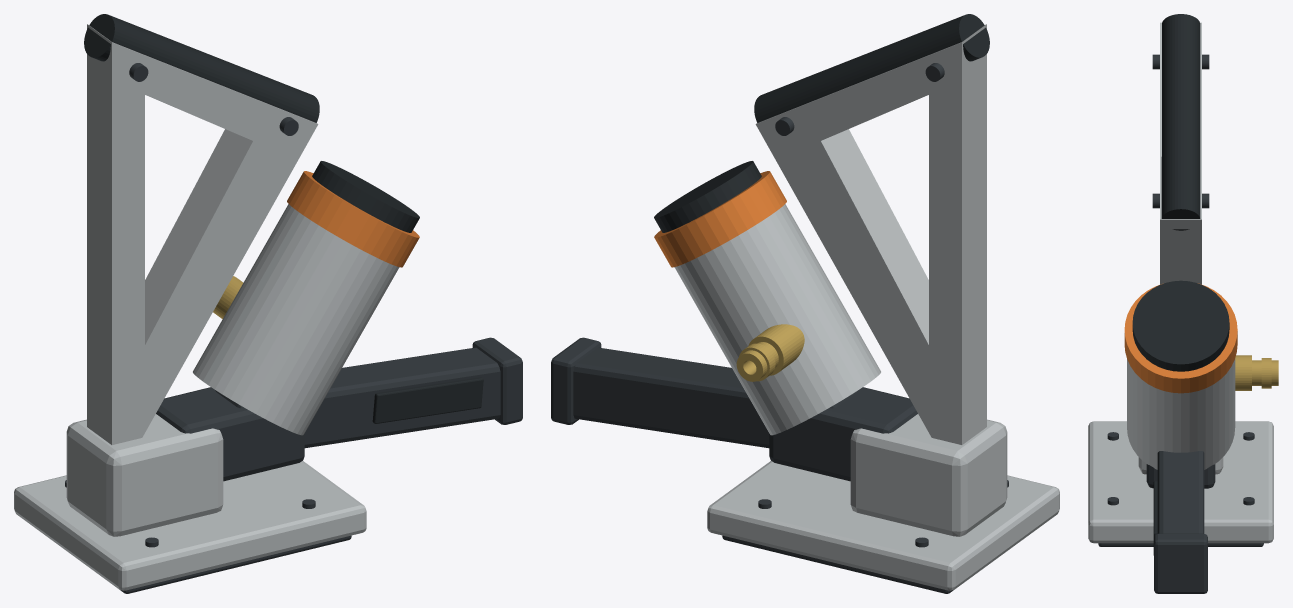
The model's file is full.glb.
3 views of the same model, side by side, from view 1: azimuth 30°, elevation 25°; view 2: azimuth 150°, elevation 25°; view 3: azimuth 270°, elevation 25° (orthographic). The views are drawn at different scales.
Visible parts, largest first — view 1: Tall cast column with triangular opening, Inclined drive housing, Wide flat flooring shoe, Nose pedestal, Long black fastener magazine, Magazine nose bridge, Upper black handle, Orange mallet strike collar, Magazine side inset, Black mallet strike pad, Magazine end latch, Shoe underside wear plate; view 2: Tall cast column with triangular opening, Inclined drive housing, Wide flat flooring shoe, Nose pedestal, Long black fastener magazine, Magazine nose bridge, Upper black handle, Orange mallet strike collar, Black mallet strike pad, Magazine end latch, Air connector shoulder, Shoe underside wear plate (+1 smaller); view 3: Wide flat flooring shoe, Upper black handle, Inclined drive housing, Black mallet strike pad, Long black fastener magazine, Tall cast column with triangular opening, Orange mallet strike collar, Magazine end latch, Air connector shoulder, Magazine nose bridge, Air quick connector sleeve, Shoe underside wear plate (+2 smaller).
Boxes of the visible parts, box(x1,y1,x2,y2) form: Tall cast column with triangular opening: box(87, 24, 318, 444); Inclined drive housing: box(193, 204, 399, 435); Wide flat flooring shoe: box(14, 461, 366, 590); Nose pedestal: box(66, 414, 223, 536); Long black fastener magazine: box(215, 347, 500, 448); Magazine nose bridge: box(156, 387, 304, 481); Upper black handle: box(84, 14, 319, 122); Orange mallet strike collar: box(287, 171, 419, 267); Magazine side inset: box(372, 377, 483, 423); Black mallet strike pad: box(312, 161, 419, 232); Magazine end latch: box(472, 337, 522, 424); Shoe underside wear plate: box(120, 535, 351, 593); Tall cast column with triangular opening: box(755, 24, 986, 444); Inclined drive housing: box(674, 204, 880, 435); Wide flat flooring shoe: box(707, 461, 1059, 590); Nose pedestal: box(850, 414, 1007, 536); Long black fastener magazine: box(573, 347, 858, 448); Magazine nose bridge: box(769, 387, 917, 481); Upper black handle: box(754, 14, 989, 122); Orange mallet strike collar: box(654, 171, 786, 267); Black mallet strike pad: box(654, 161, 761, 232); Magazine end latch: box(551, 337, 601, 424); Air connector shoulder: box(748, 324, 804, 375); Shoe underside wear plate: box(722, 535, 953, 593); Wide flat flooring shoe: box(1088, 421, 1273, 543); Upper black handle: box(1161, 14, 1200, 230); Inclined drive housing: box(1127, 358, 1235, 469); Black mallet strike pad: box(1132, 280, 1229, 371); Long black fastener magazine: box(1157, 451, 1204, 533); Tall cast column with triangular opening: box(1160, 22, 1201, 284); Orange mallet strike collar: box(1124, 283, 1237, 393); Magazine end latch: box(1154, 533, 1207, 593); Air connector shoulder: box(1235, 355, 1251, 390); Magazine nose bridge: box(1146, 464, 1215, 488); Air quick connector sleeve: box(1252, 360, 1278, 385); Shoe underside wear plate: box(1098, 543, 1263, 546).
Size of the model in its own units: 0.5355 by 0.6205 by 0.236.
